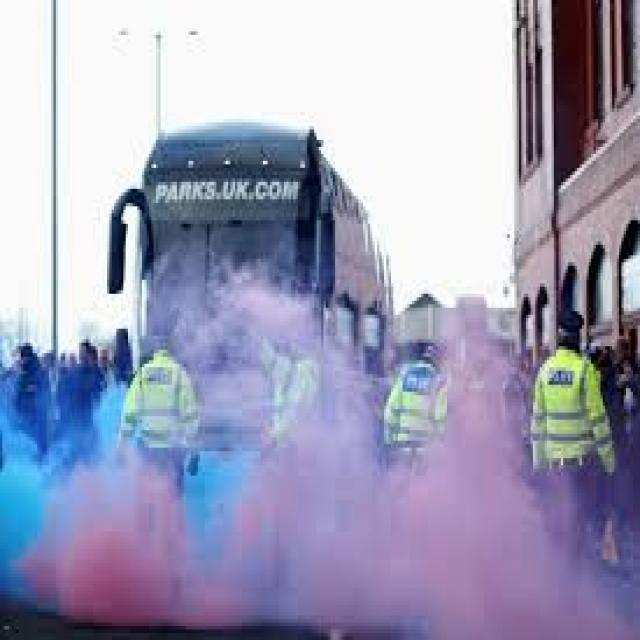Smoke: (23, 405, 605, 640)
